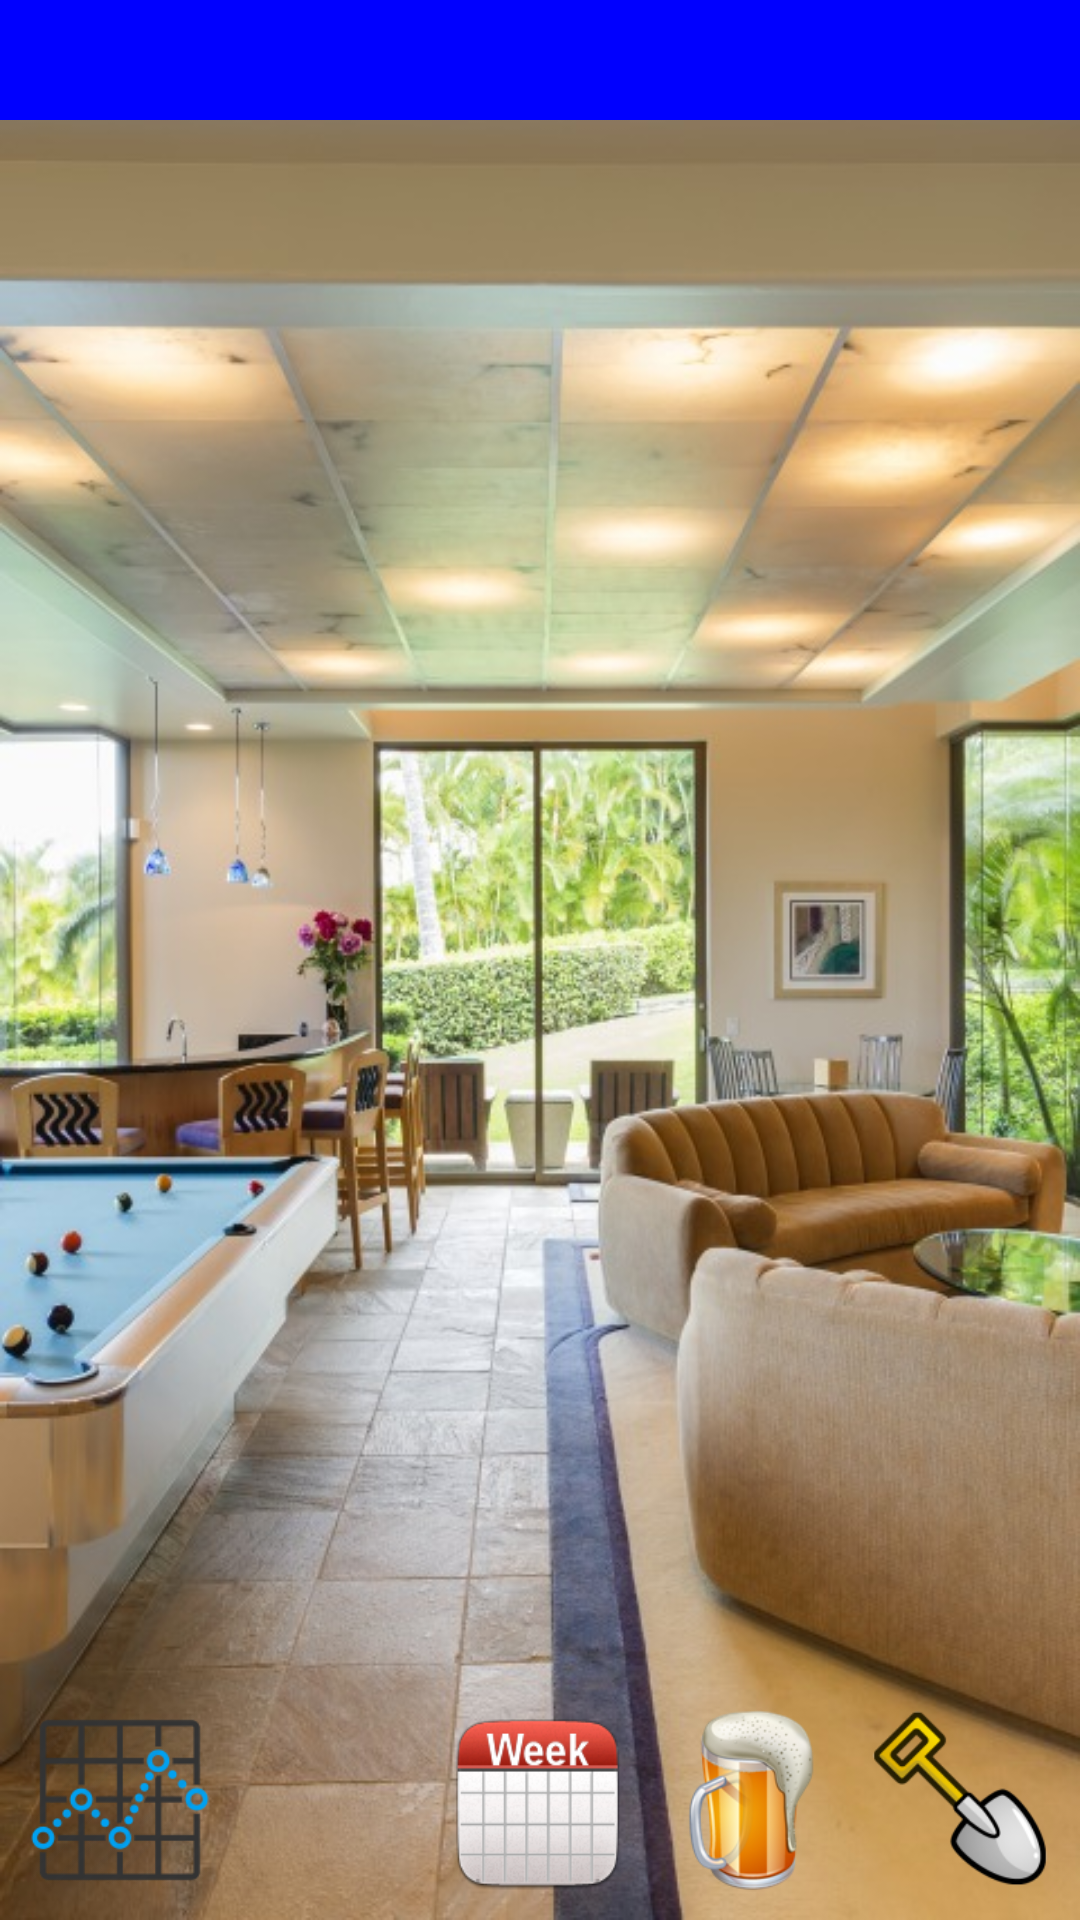

Icon click points for this 1080×1920 phone screenshot, format [x,y]:
beer: [750,1800]
plot: [120,1800]
shovel: [960,1797]
